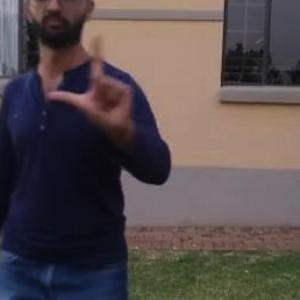land_hand: (44, 26, 140, 140)
